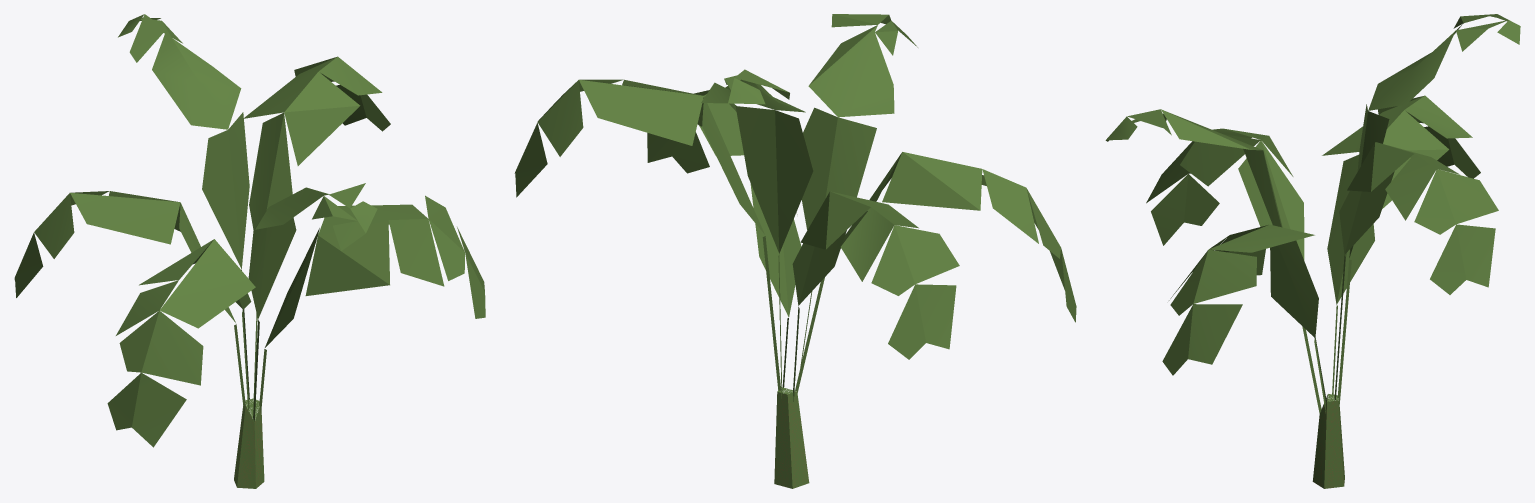
The model's file is Plant_Tropical_01.fbx.
3 renders of one model, left to right at view 1: azimuth 30°, elevation 25°; view 2: azimuth 150°, elevation 25°; view 3: azimuth 270°, elevation 25°, orthographic. The views are drawn at different scales.
Visible parts, largest first — view 1: Model; view 2: Model; view 3: Model.
Part boxes in pixels (x1,y1,x2,y2): Model: (14,14,485,488); Model: (514,14,1076,488); Model: (1105,14,1520,488).
Size of the model in its own units: 213 by 224 by 186.
